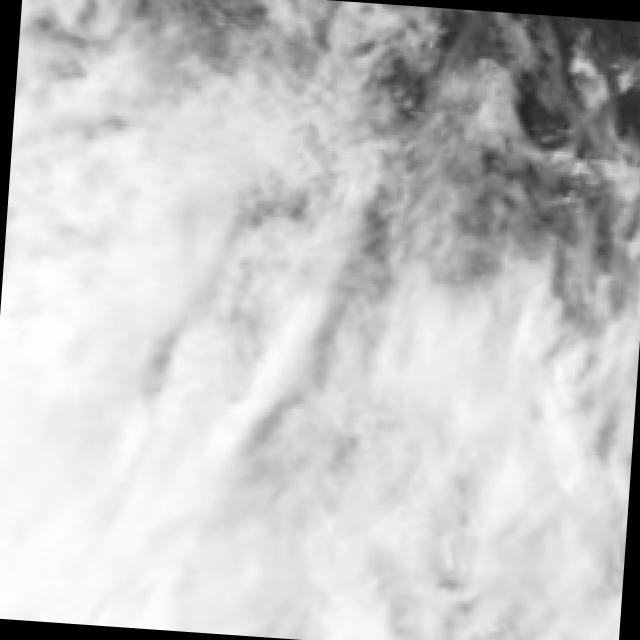CB: (187, 396, 631, 640), (0, 198, 215, 631)
